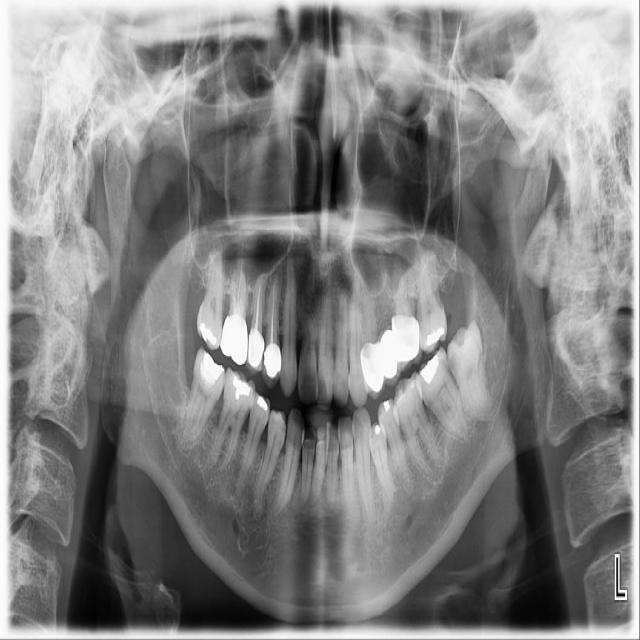Crown: (391, 315, 424, 373), (360, 341, 385, 400), (220, 315, 248, 365), (380, 330, 403, 387), (262, 342, 282, 389), (246, 327, 264, 375)
Filling: (198, 351, 223, 388), (417, 354, 439, 387), (230, 374, 253, 402), (196, 323, 219, 344), (428, 327, 445, 350), (255, 393, 273, 411), (379, 400, 395, 416), (372, 424, 385, 436)
Periapical lesion: (241, 488, 269, 545), (270, 496, 294, 520), (424, 460, 445, 485), (232, 474, 249, 500), (307, 493, 320, 509), (297, 497, 308, 512)
Root Canal Treatment: (255, 288, 260, 330), (239, 259, 243, 307), (271, 288, 274, 343), (242, 287, 247, 309), (232, 277, 235, 311)
impacted tooth: (446, 323, 500, 421)
